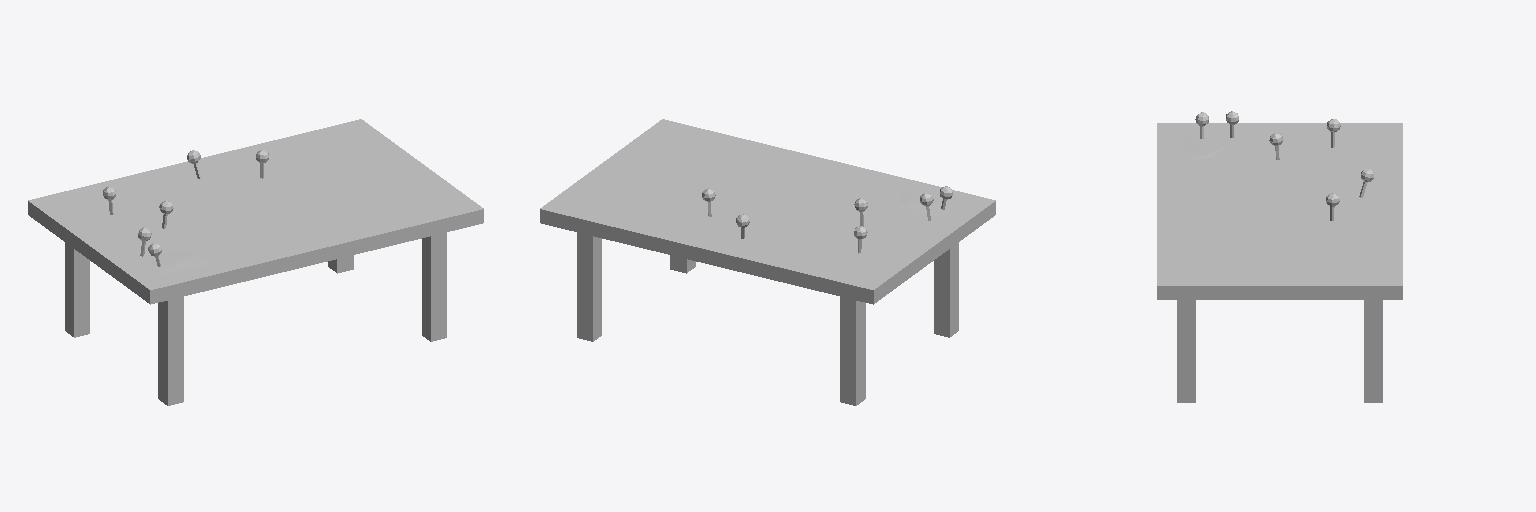
The model's file is table_001.obj.
3 views of the same model, side by side, from view 1: azimuth 30°, elevation 25°; view 2: azimuth 150°, elevation 25°; view 3: azimuth 270°, elevation 25° (orthographic).
Visible parts, largest first — view 1: table_001; view 2: table_001; view 3: table_001.
Boxes of the visible parts, <box> form: table_001: <box>28,119,483,405</box>; table_001: <box>540,119,995,405</box>; table_001: <box>1157,111,1402,402</box>.
Size of the model in its own units: 2.07 by 0.9299 by 1.32.